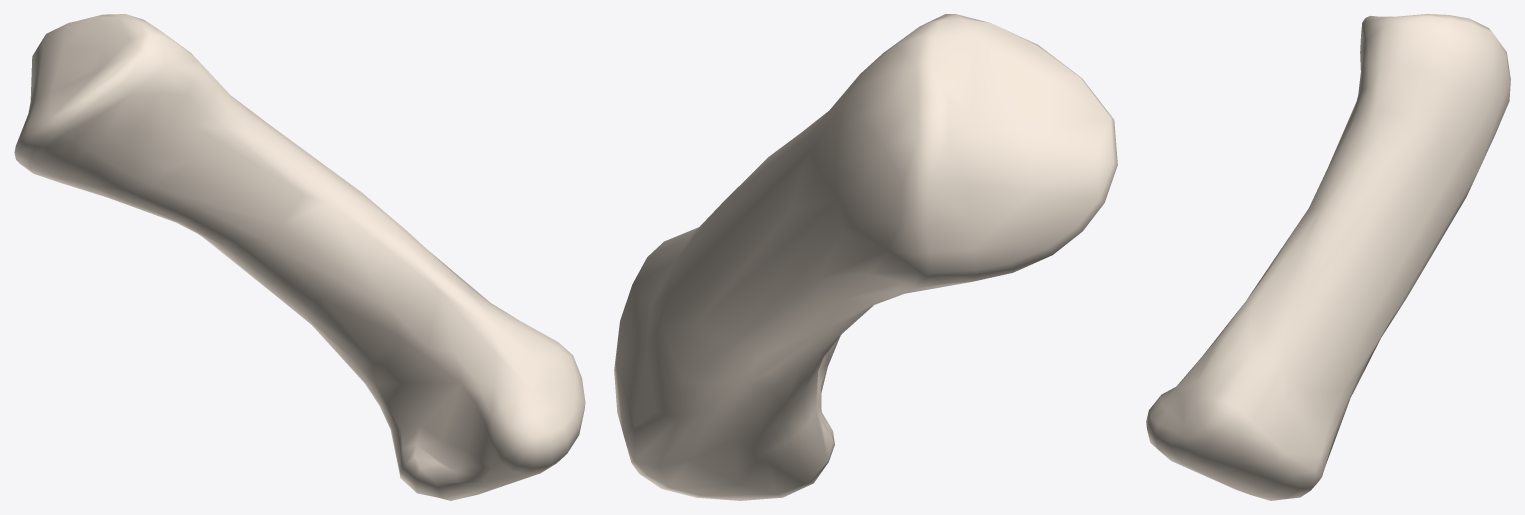
The model's file is left_metacarpal_1.glb.
3 views of the same model, side by side, from view 1: azimuth 30°, elevation 25°; view 2: azimuth 150°, elevation 25°; view 3: azimuth 270°, elevation 25° (orthographic). The views are drawn at different scales.
Visible parts, largest first — view 1: 1st metacarpal bone.r; view 2: 1st metacarpal bone.r; view 3: 1st metacarpal bone.r.
Boxes of the visible parts, x1,y1,x2,y2 form: 1st metacarpal bone.r: [14, 14, 585, 500]; 1st metacarpal bone.r: [614, 14, 1117, 500]; 1st metacarpal bone.r: [1146, 14, 1510, 500].
Bounding box in the file's own units: 0.0222 × 0.022 × 0.019.
